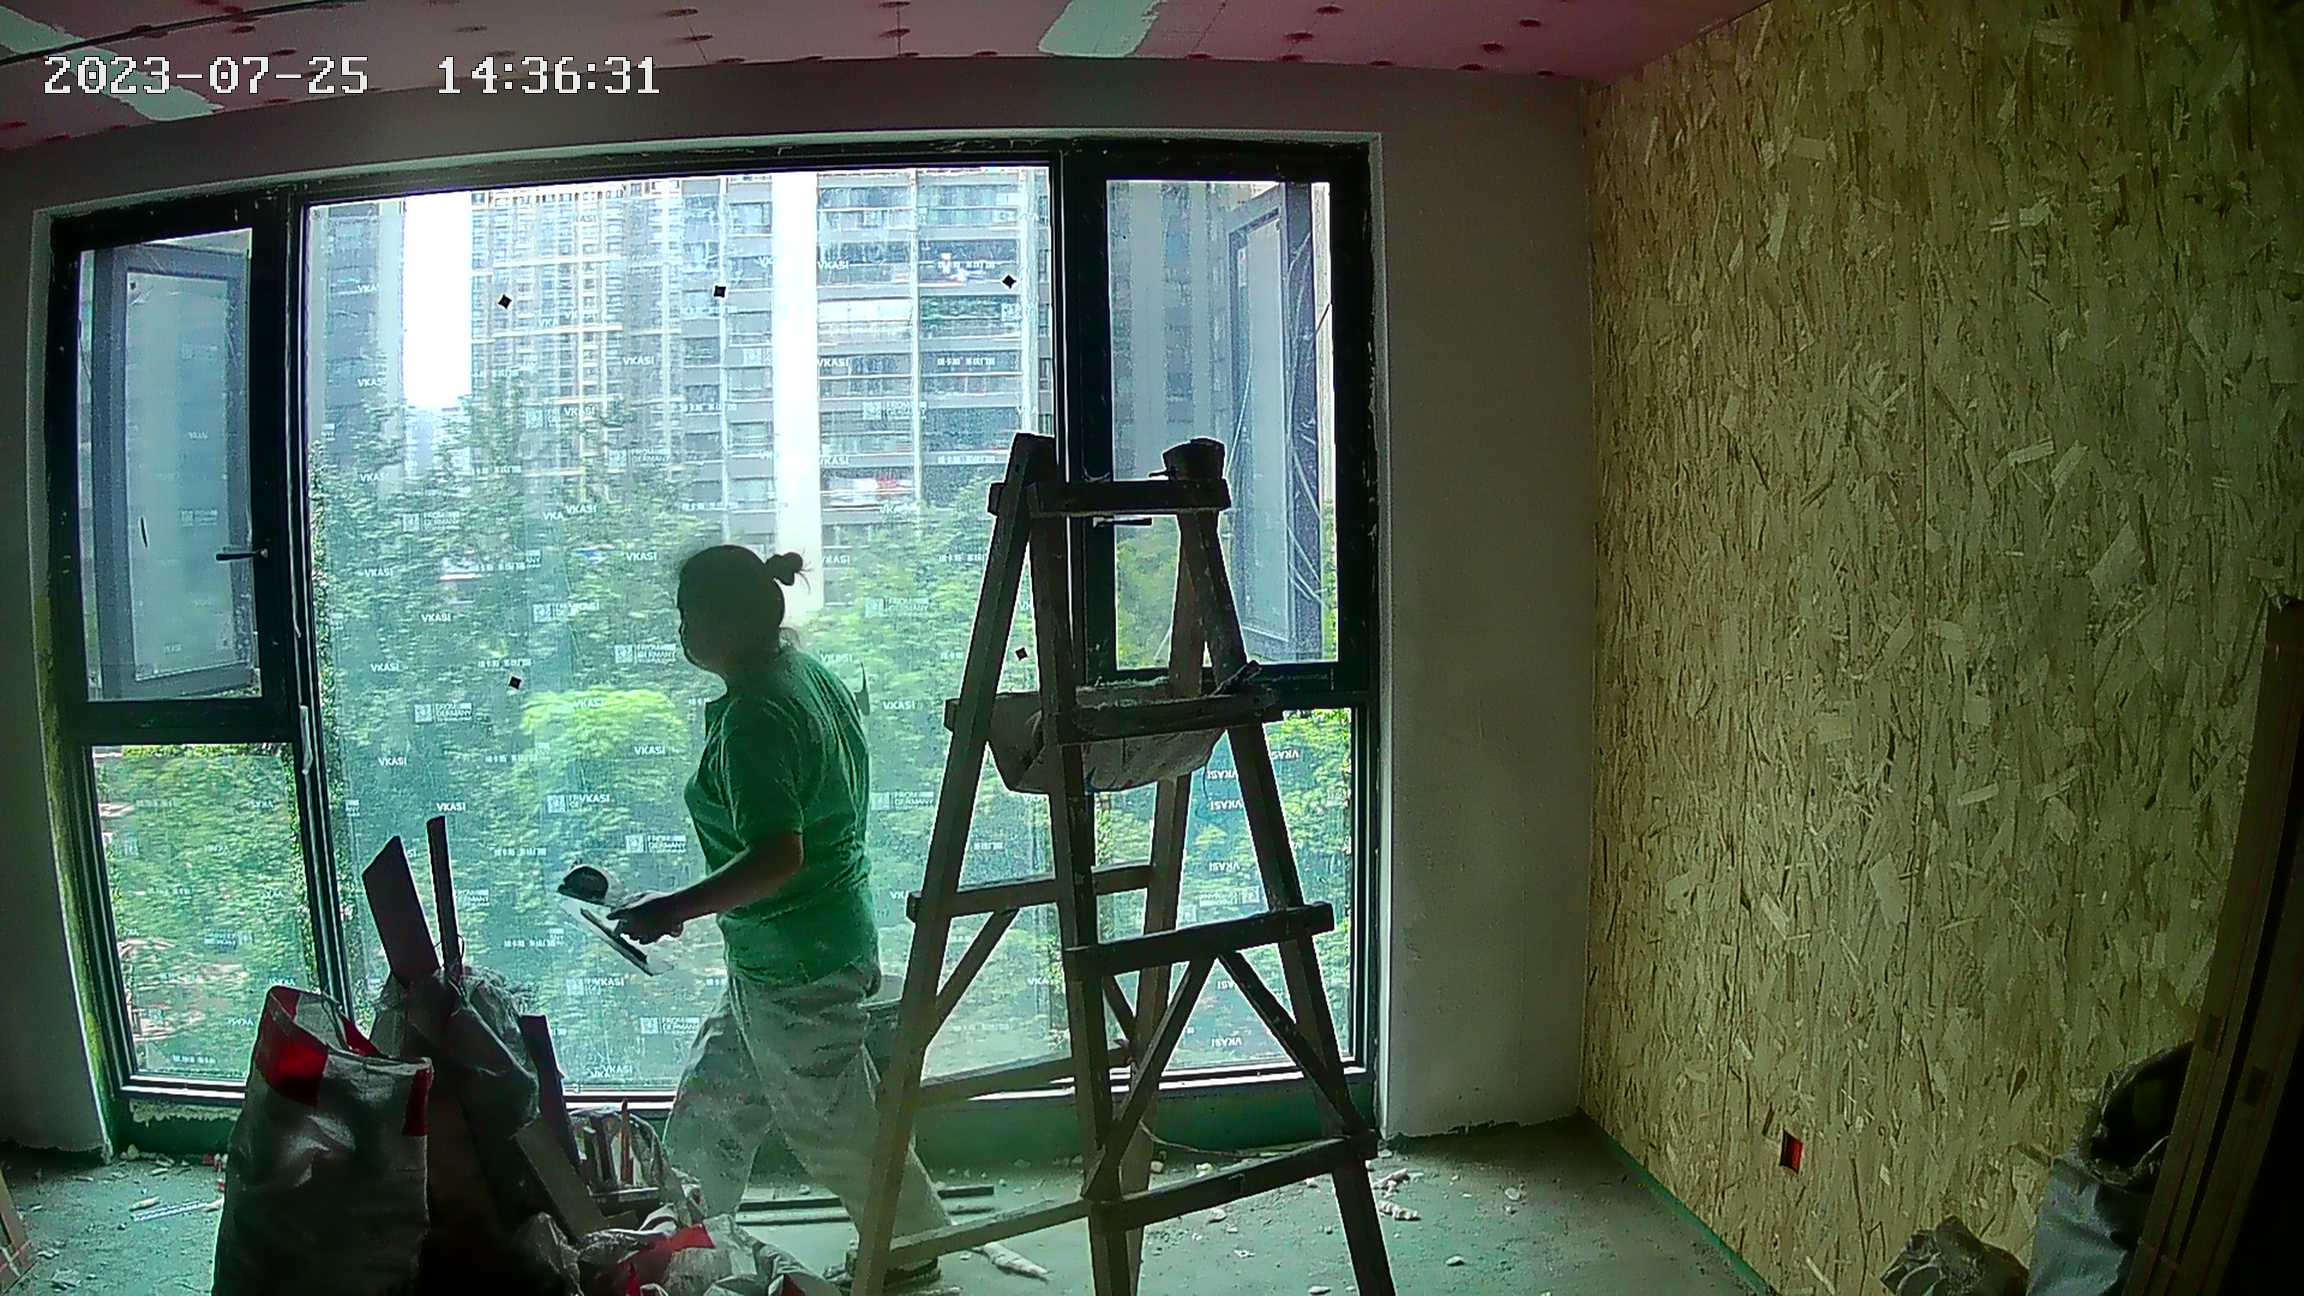people: (617, 545, 943, 1295)
window: (57, 185, 1367, 1085)
